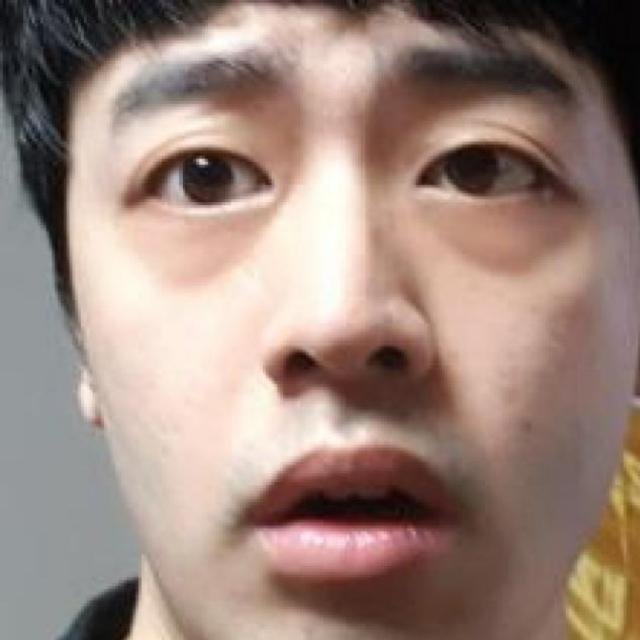Surprised: (88, 2, 611, 640)
